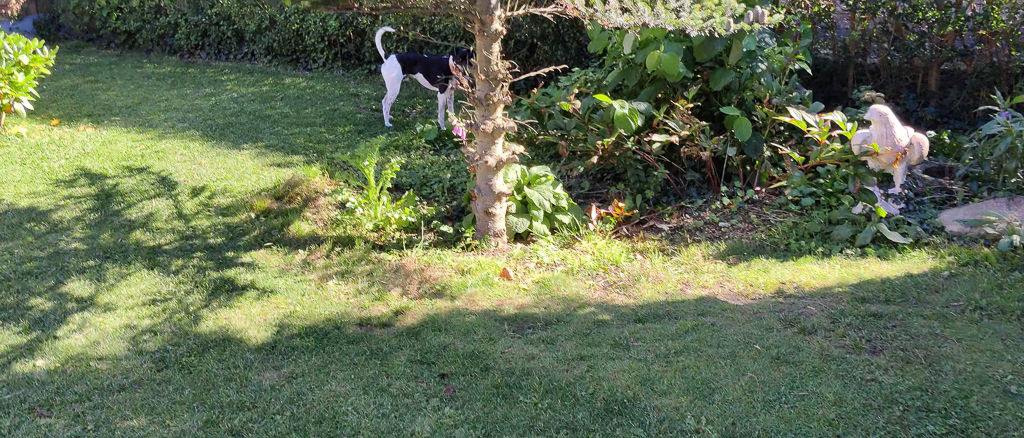Dog: (370, 21, 485, 135)
Eagle: (841, 96, 946, 214)
